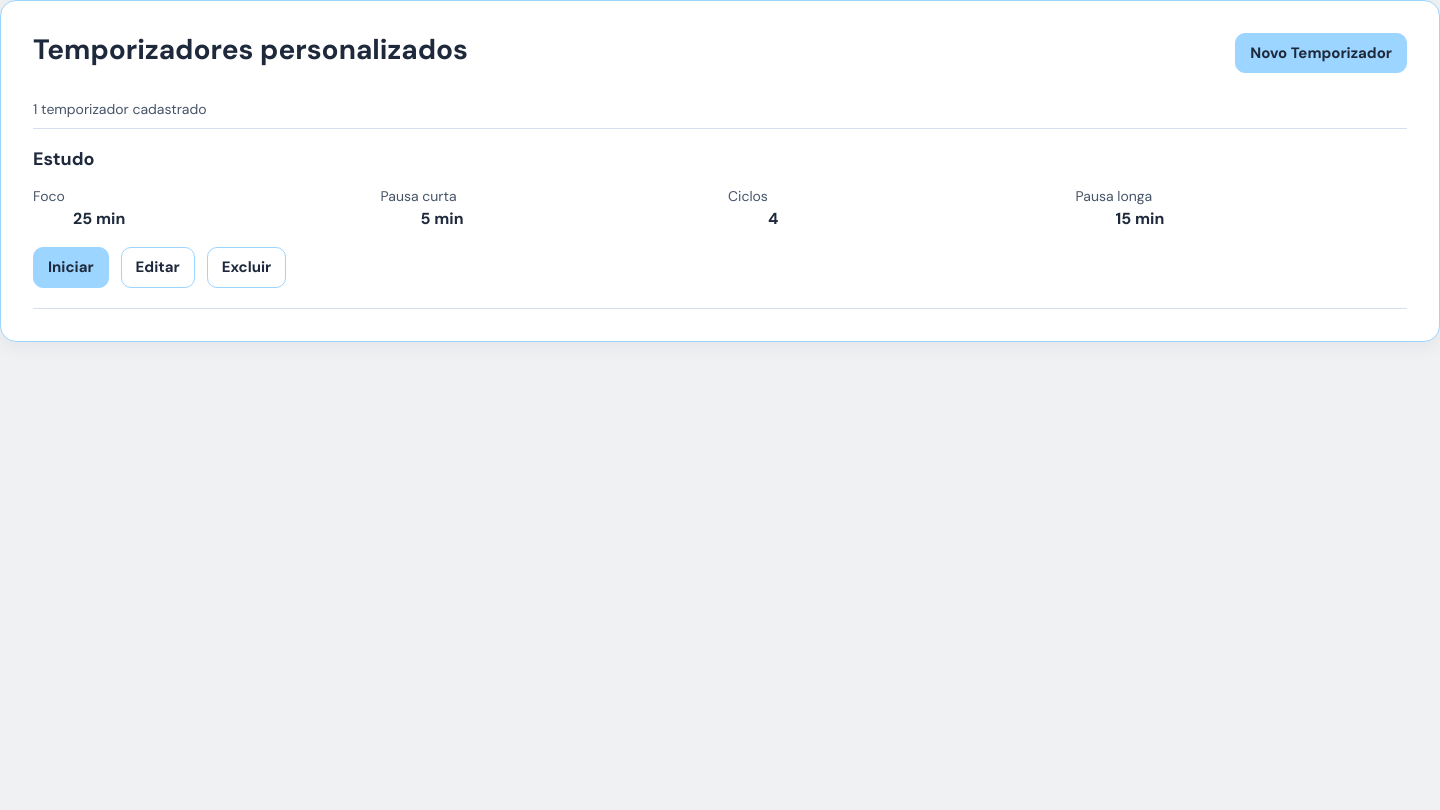
Test: GerenciadorPresets › cancela a exclusão e mantém o preset
Click the button "Excluir".
click(246, 267)  # box [207,247,286,288]
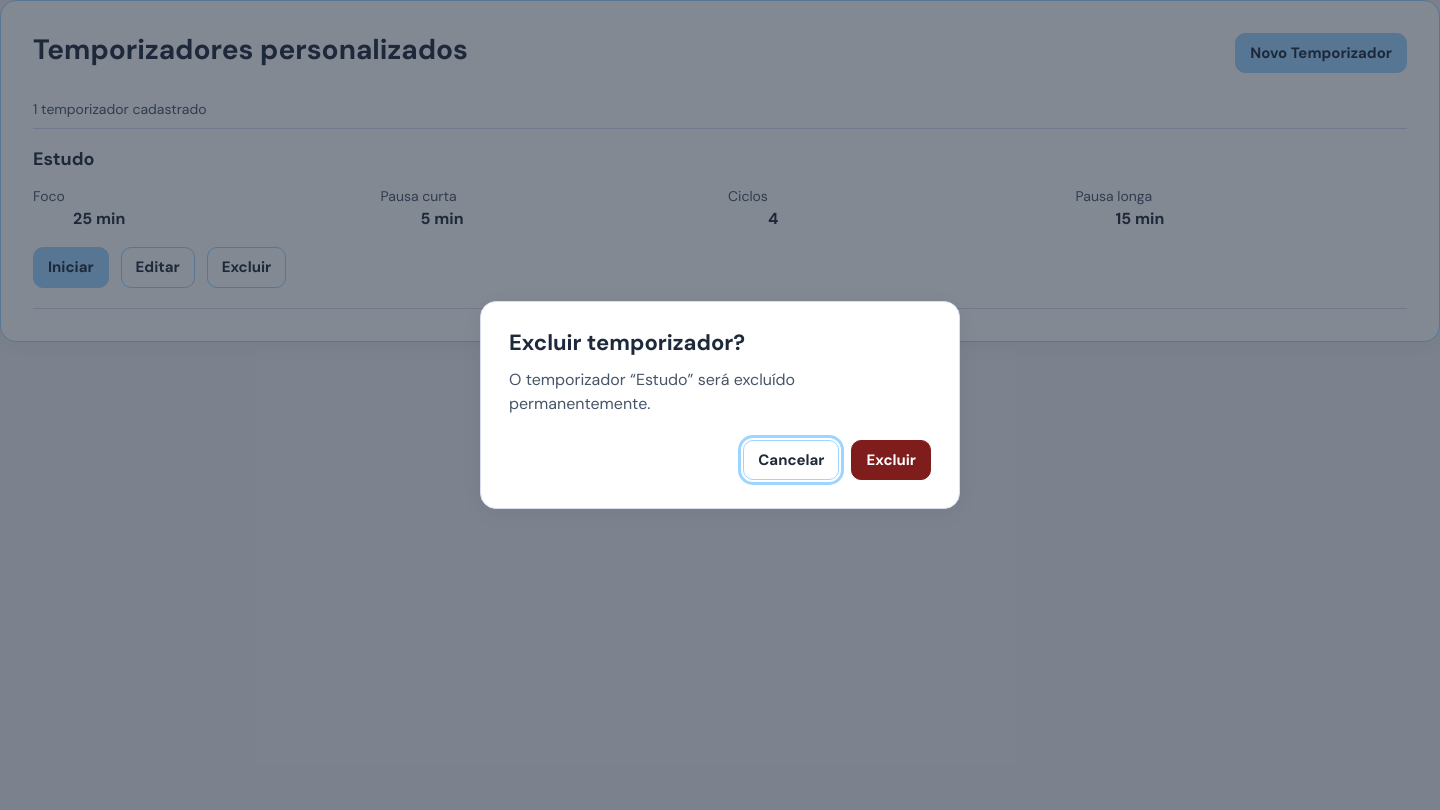
Now the dialog "Excluir temporizador?" shows "Estudo", box [509,369,795,414]
Click the button "Cancelar".
click(791, 460)  # box [743,440,840,480]
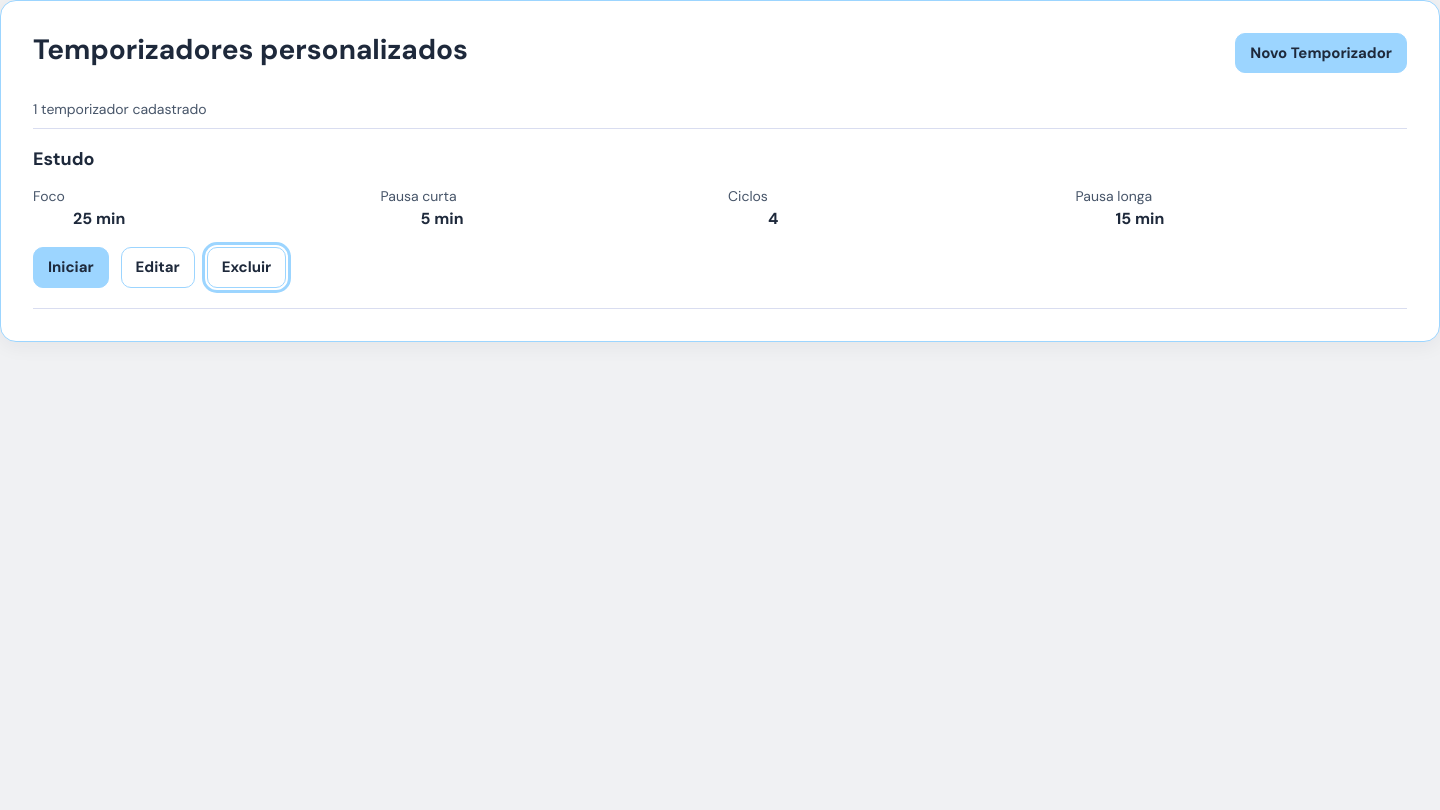
Expected: the heading "Estudo" is shown, [33,149,94,170]
Now the dialog is gone
